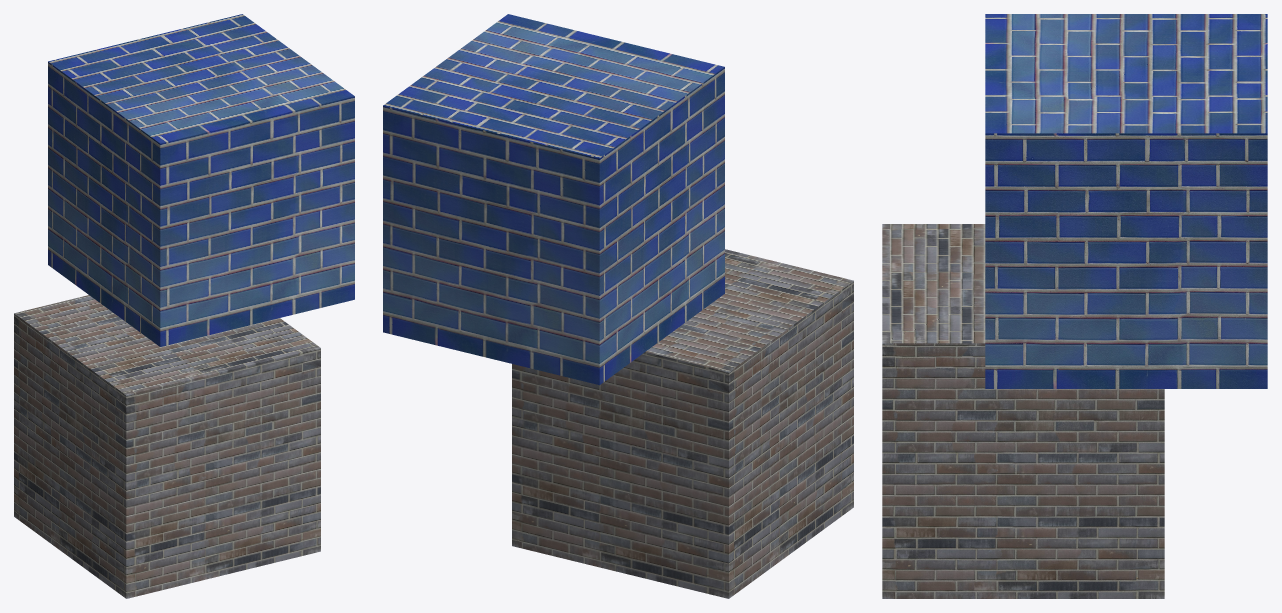
3 views of the same model, side by side, from view 1: azimuth 30°, elevation 25°; view 2: azimuth 150°, elevation 25°; view 3: azimuth 270°, elevation 25° (orthographic). The views are drawn at different scales.
Visible parts, largest first — view 1: group (×2); view 2: group (×2); view 3: group (×2).
Part boxes in pixels (<box>): group (×2): <box>14,14,354,598</box>; group (×2): <box>383,14,853,598</box>; group (×2): <box>882,14,1267,598</box>.
Bounding box in the file's own units: 1.39 × 2 × 1.36.
2 materials, 2 textured.
